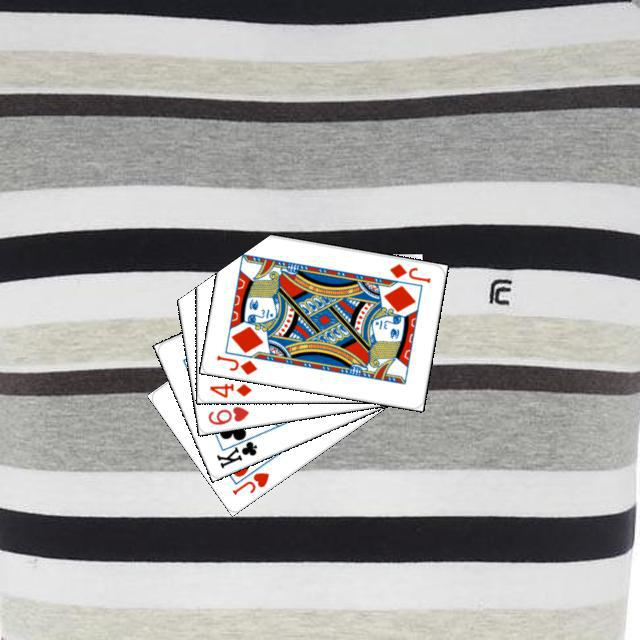4d: (205, 378, 253, 399)
6h: (203, 401, 251, 427)
Jd: (211, 350, 259, 376), (384, 259, 432, 285)
Jh: (227, 467, 271, 497)
Kc: (211, 430, 259, 470)
